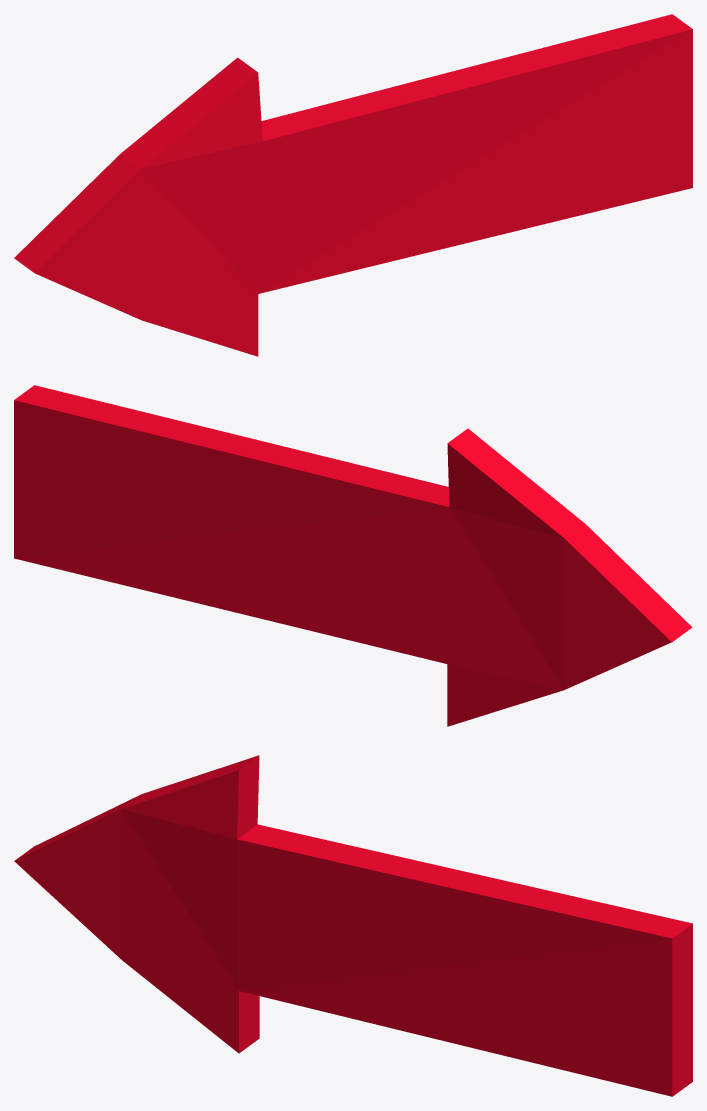
File: pijl model.fbx
3 views of the same model, one above another, from view 1: azimuth 30°, elevation 25°; view 2: azimuth 150°, elevation 25°; view 3: azimuth 330°, elevation 25° (orthographic).
Visible parts, largest first — view 1: pCube1; view 2: pCube1; view 3: pCube1.
Boxes of the visible parts, x1,y1,x2,y2 form: pCube1: (14,14,692,356); pCube1: (14,385,692,726); pCube1: (14,755,692,1096).
Bounding box in the file's own units: 61.3 × 25.26 × 3.83.
1 material, 1 textured.
